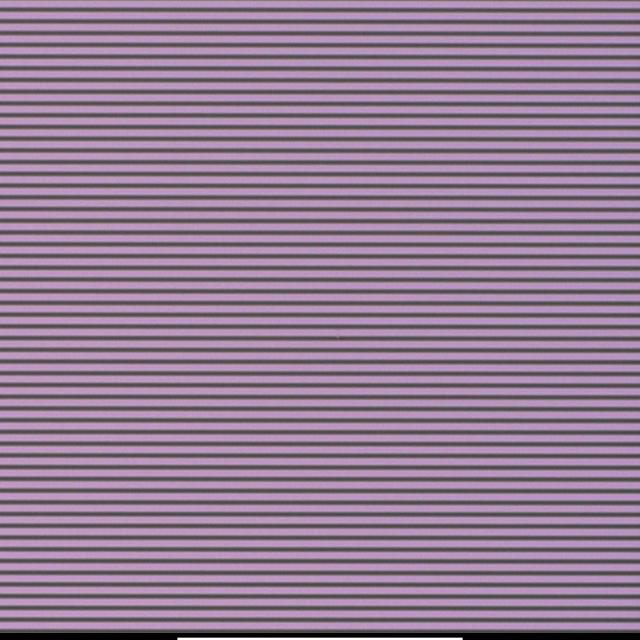03_intrusion: (327, 325, 350, 350)
